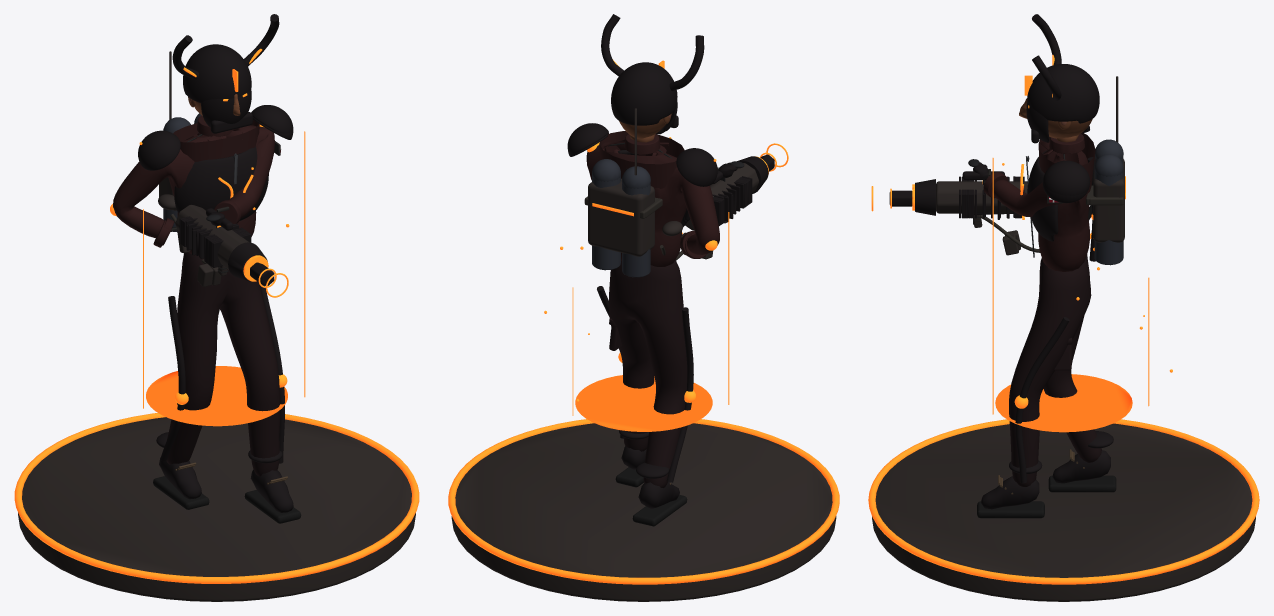
File: straale_lava.glb
3 views of the same model, side by side, from view 1: azimuth 30°, elevation 25°; view 2: azimuth 150°, elevation 25°; view 3: azimuth 270°, elevation 25° (orthographic). The views are drawn at different scales.
Parts seen in each view (by area): view 1: fod_net, menneske_net, hoved_net, op4.001_net, op2.001_net, vaaben_net, op4.002_net, op3.001_net, op4_net; view 2: fod_net, menneske_net, op4.001_net, hoved_net, op3.001_net, op4.002_net, vaaben_net, op2.001_net; view 3: fod_net, menneske_net, hoved_net, op4.001_net, op3.001_net, vaaben_net, op4.002_net, op2.001_net.
Part boxes in pixels (bbox=[...]): fod_net: bbox=[14, 413, 419, 601]; menneske_net: bbox=[113, 113, 301, 523]; hoved_net: bbox=[172, 14, 279, 133]; op4.001_net: bbox=[139, 131, 305, 426]; op2.001_net: bbox=[138, 130, 287, 482]; vaaben_net: bbox=[175, 204, 274, 285]; op4.002_net: bbox=[110, 124, 287, 463]; op3.001_net: bbox=[159, 51, 293, 210]; op4_net: bbox=[197, 227, 288, 297]; fod_net: bbox=[448, 419, 839, 601]; menneske_net: bbox=[586, 131, 744, 526]; op4.001_net: bbox=[544, 137, 729, 431]; hoved_net: bbox=[601, 14, 704, 138]; op3.001_net: bbox=[567, 108, 654, 256]; op4.002_net: bbox=[587, 142, 717, 482]; vaaben_net: bbox=[681, 154, 774, 254]; op2.001_net: bbox=[618, 148, 717, 227]; fod_net: bbox=[868, 419, 1259, 601]; menneske_net: bbox=[968, 132, 1123, 518]; hoved_net: bbox=[1019, 14, 1099, 143]; op4.001_net: bbox=[992, 158, 1172, 432]; op3.001_net: bbox=[1043, 76, 1125, 242]; vaaben_net: bbox=[889, 171, 1092, 220]; op4.002_net: bbox=[1014, 157, 1096, 483]; op2.001_net: bbox=[998, 125, 1089, 484].
Bounding box in the file's own units: 1.94 × 2.66 × 1.94.
